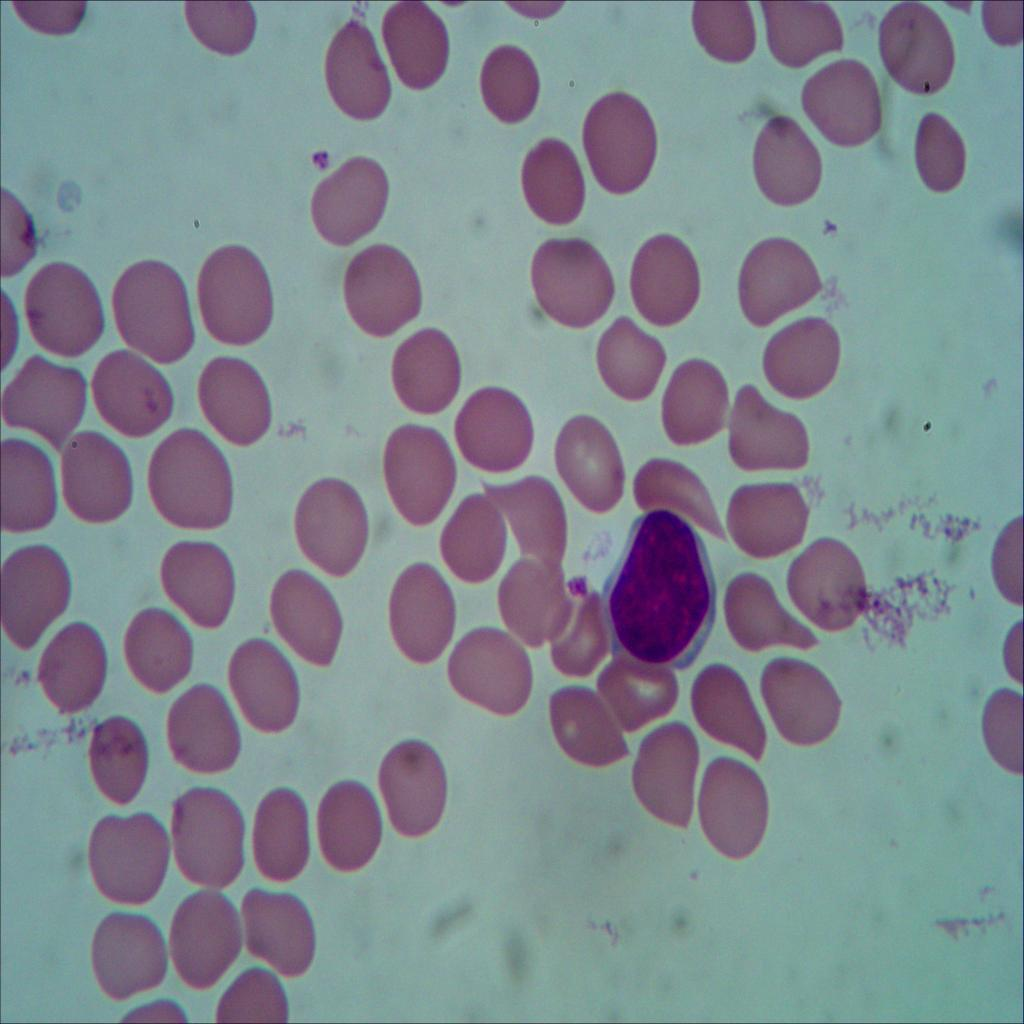Eritrosit: (441, 614, 540, 722), (147, 426, 239, 530), (0, 350, 88, 458), (490, 554, 584, 654), (115, 257, 201, 366), (882, 0, 970, 106), (18, 256, 112, 354), (720, 380, 814, 478), (581, 89, 660, 201), (718, 568, 816, 658), (288, 468, 370, 574), (83, 907, 175, 1001), (79, 812, 170, 907), (792, 526, 872, 634), (740, 227, 825, 328), (525, 230, 616, 323), (635, 449, 725, 542), (378, 420, 457, 525), (196, 246, 278, 347), (167, 880, 245, 986), (306, 149, 391, 244), (692, 658, 768, 764), (168, 677, 246, 780), (806, 49, 882, 154), (30, 614, 108, 716), (194, 347, 276, 444), (762, 308, 843, 406), (342, 240, 424, 336), (559, 411, 629, 523), (0, 544, 76, 647), (170, 790, 245, 894), (763, 652, 845, 747), (494, 465, 573, 563), (314, 19, 391, 119), (904, 98, 974, 208), (96, 340, 175, 436), (455, 384, 534, 480), (160, 530, 236, 628), (242, 882, 320, 977), (387, 319, 465, 414), (248, 786, 317, 892), (380, 739, 453, 839), (626, 236, 702, 330), (728, 479, 813, 563), (223, 641, 302, 731), (387, 564, 454, 670), (266, 568, 346, 656), (592, 308, 666, 403), (60, 427, 132, 523), (596, 654, 681, 734), (550, 685, 624, 776), (640, 715, 698, 831), (438, 492, 508, 588), (748, 122, 821, 214), (693, 760, 765, 852), (318, 777, 388, 870), (764, 0, 850, 75), (520, 138, 590, 228), (86, 714, 150, 810), (385, 0, 453, 89), (0, 439, 59, 541), (124, 610, 194, 693), (480, 42, 544, 132), (663, 363, 729, 444), (502, 493, 570, 566), (692, 0, 756, 67), (555, 596, 607, 677)
Limfoblast: (608, 503, 716, 669)
Platelet: (309, 146, 335, 177), (567, 571, 588, 601)
